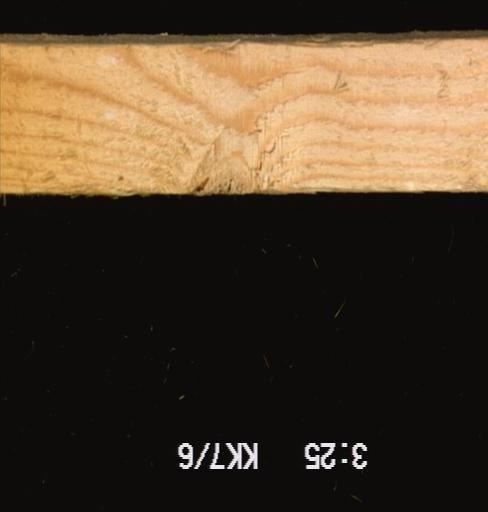edge_knot: (179, 136, 277, 194)
